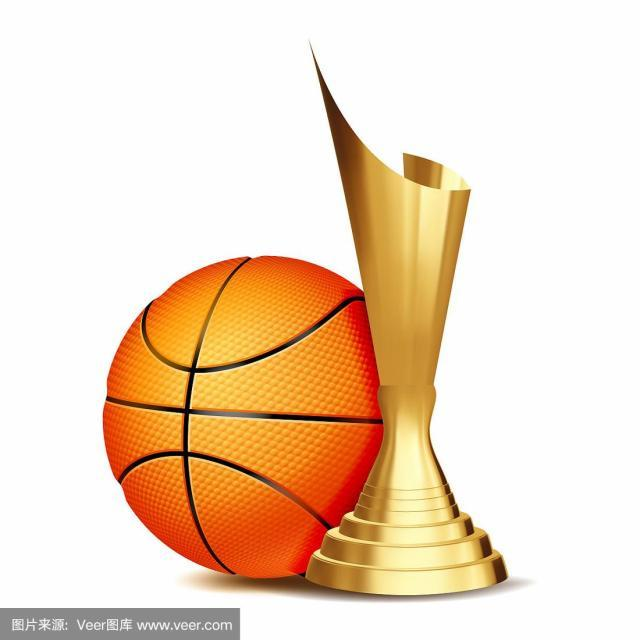rim: (100, 250, 396, 577)
